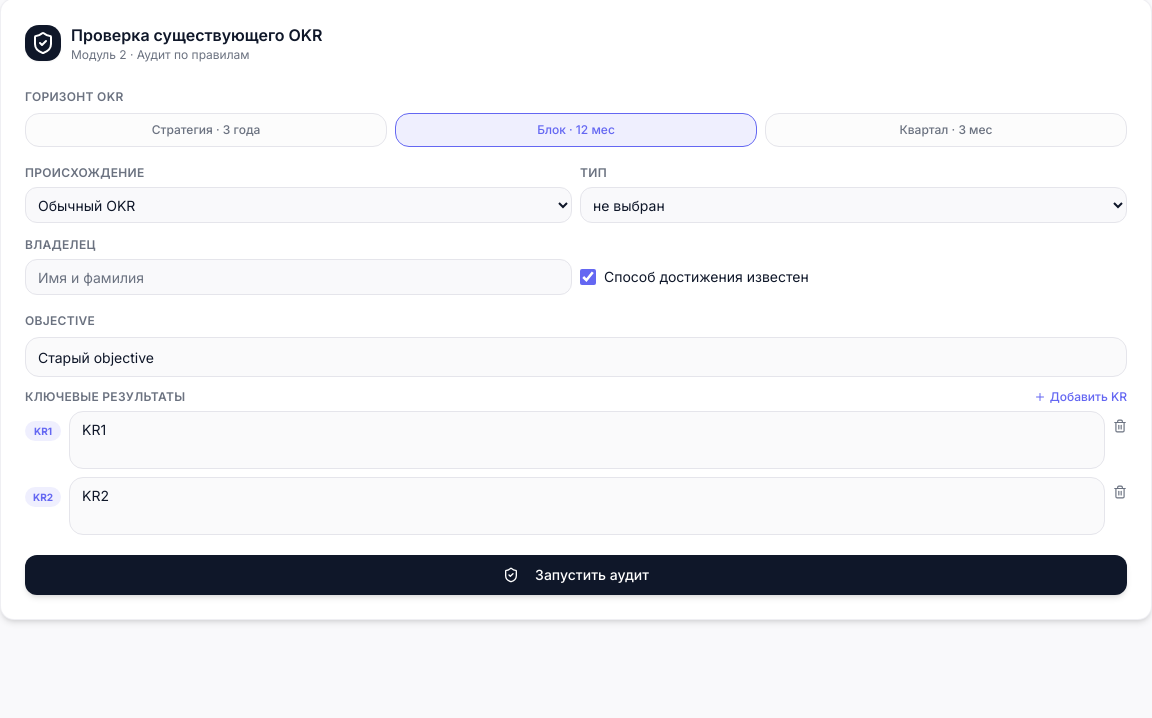
Test: OkrValidator (Module 2) › renders rewritten_objective_warning notice when flag is true
Click the button "Запустить аудит".
click(576, 575)  # box [25,555,1127,595]
(page scrolled)
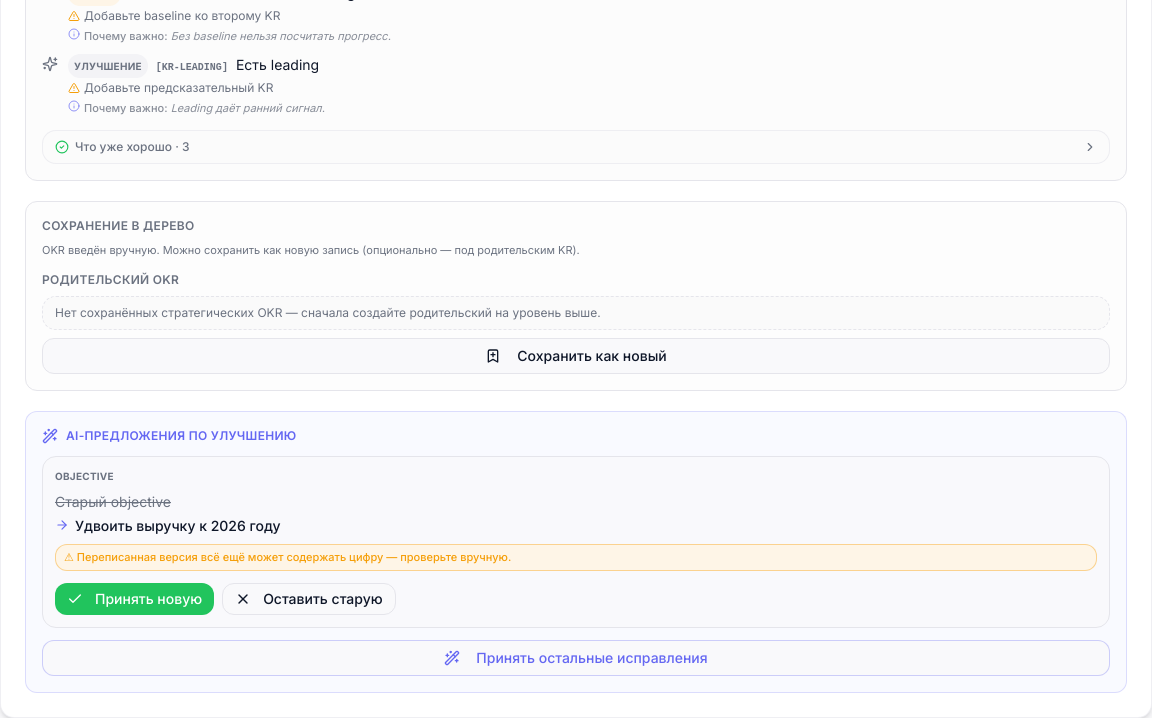
Expected: the message with test id "rewritten-objective-warning" shows "всё ещё может содержать цифру", [64,550,511,564]
